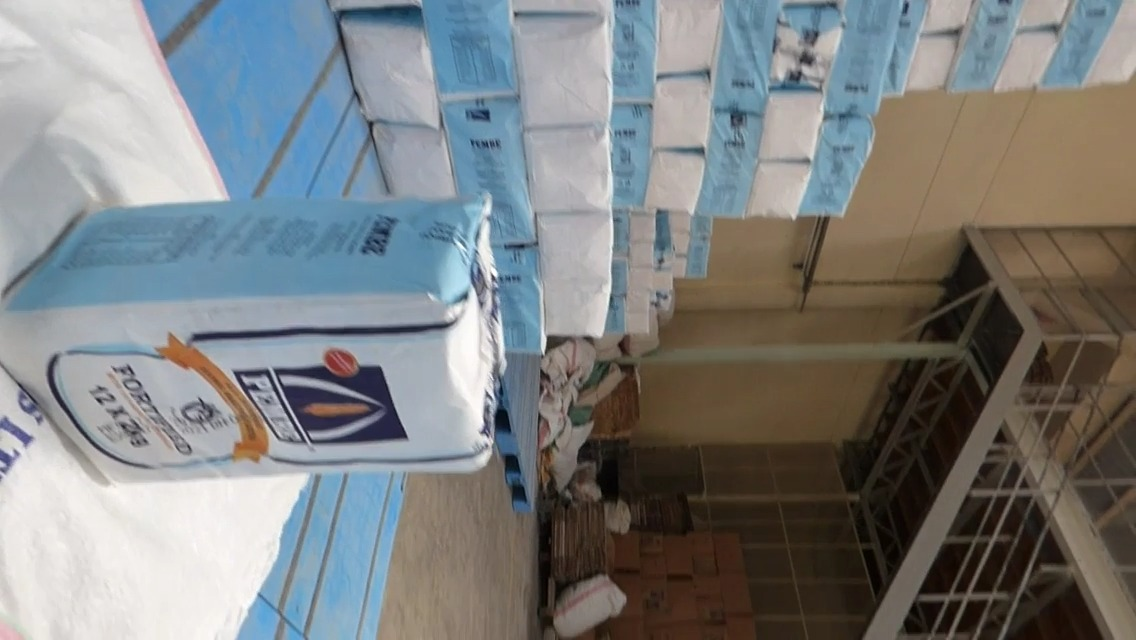wheat_flour_blue_label: (0, 201, 492, 466)
